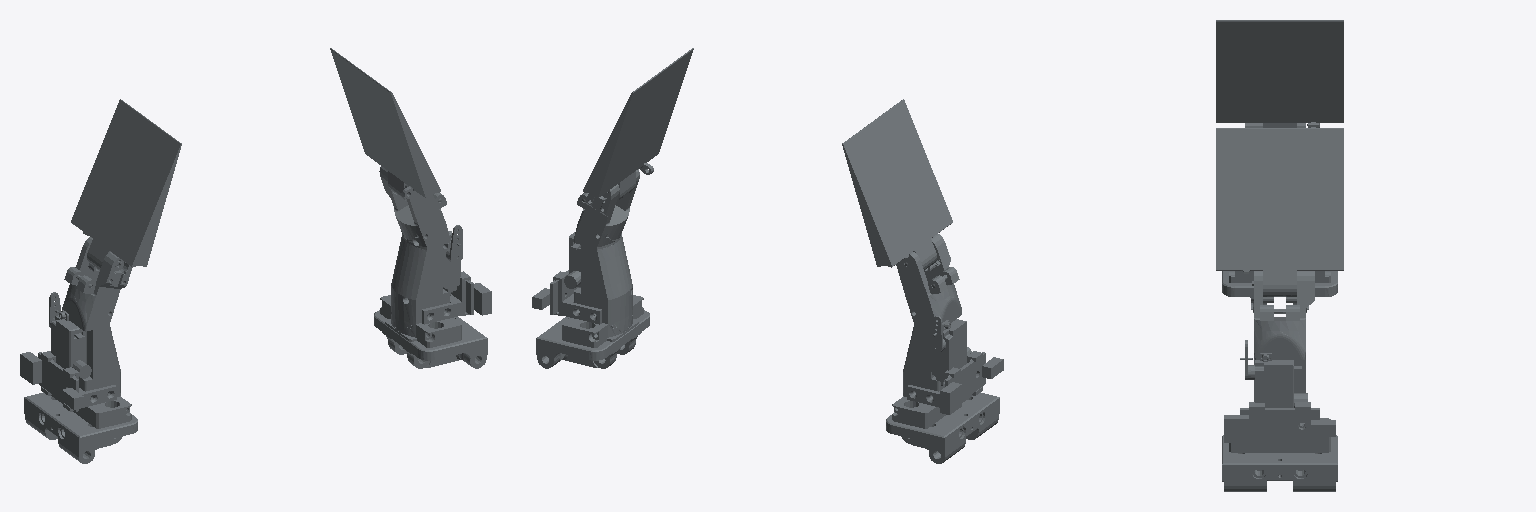
robot.urdf — lc_soft_enable_wide_grip:
<robot name="lc_soft_enable_wide_grip">
	<link name="base_link">
		<collision>
			<geometry>
				<mesh filename="package://lc_soft_enable_wide_grip/meshes/lc_soft_enable_wide_grip_Base_SWA_collision.stl" scale="1.0 1.0 1.0" />
			</geometry>
			<origin rpy="0 0 0" xyz="0 0 0" />
		</collision>
		<visual>
			<geometry>
				<mesh filename="package://lc_soft_enable_wide_grip/meshes/lc_soft_enable_wide_grip_Base_SWA.stl" scale="1.0 1.0 1.0" />
			</geometry>
			<origin rpy="0 0 0" xyz="0 0 0" />
			<material name="lc_soft_enable_wide_grip_Base_SWA.stl">
				<color rgba="0.4891 0.5125 0.5281 1.0" />
			</material>
		</visual>
		<inertial>
			<inertia ixx="0.0025119065" ixy="6.6303825e-07" ixz="3.2623689e-07" iyy="0.0022695104" iyz="3.6003285e-05" izz="0.0011107062" />
			<origin rpy="0 0 0" xyz="8.0969962e-06 0.0055754613 0.06269477" />
			<mass value="1.088118" />
		</inertial>
	</link>
	<link name="right_finger_link">
		<collision>
			<geometry>
				<mesh filename="asset/lc_soft_enable_wide_grip/meshes/right_base_60.stl" scale="0.001 0.001 0.001" />
			</geometry>
			<origin rpy="0 0 0" xyz="0 0 0" />
		</collision>
		<visual>
			<geometry>
				<mesh filename="asset/lc_soft_enable_wide_grip/meshes/right_base_60.stl" scale="0.001 0.001 0.001" />
			</geometry>
			<origin rpy="0 0 0" xyz="0 0 0" />
			<material name="lc_soft_enable_wide_grip_Right_Base_RIGHT_BASE.stl">
				<color rgba="0.4891 0.5125 0.5281 1.0" />
			</material>
		</visual>
		<inertial>
			<inertia ixx="1.1768394e-05" ixy="-6.2909428e-08" ixz="-3.6349539e-06" iyy="3.9431049e-05" iyz="-3.2865666e-07" izz="4.1707704e-05" />
			<origin rpy="0 0 0" xyz="0.020046839 -0.00032181022 -0.0055554777" />
			<mass value="0.071622239" />
		</inertial>
	</link>
	<link name="right_tip_link">
		<collision>
			<geometry>
				<mesh filename="asset/lc_soft_enable_wide_grip/meshes/right_distal_60.stl" scale="0.001 0.001 0.001" />
			</geometry>
			<origin rpy="0 0 0" xyz="0 0 0" />
		</collision>
		<visual>
			<geometry>
				<mesh filename="asset/lc_soft_enable_wide_grip/meshes/right_distal_60.stl" scale="0.001 0.001 0.001" />
			</geometry>
			<origin rpy="0 0 0" xyz="0 0 0" />
			<material name="lc_soft_enable_wide_grip_Right_Distal_RIGHT_DISTAL.stl">
				<color rgba="0.4891 0.5125 0.5281 1.0" />
			</material>
		</visual>
		<inertial>
			<inertia ixx="2.4290894e-06" ixy="2.7371321e-07" ixz="-4.0328611e-09" iyy="2.6146567e-06" iyz="9.9713504e-09" izz="6.7624098e-07" />
			<origin rpy="0 0 0" xyz="-0.0081993292 0.0060080724 0.00015047764" />
			<mass value="0.013727707" />
		</inertial>
	</link>
	<link name="left_finger_link">
		<collision>
			<geometry>
				<mesh filename="asset/lc_soft_enable_wide_grip/meshes/left_base_60.stl" scale="0.001 0.001 0.001" />
			</geometry>
			<origin rpy="0 0 0" xyz="0 0 0" />
		</collision>
		<visual>
			<geometry>
				<mesh filename="asset/lc_soft_enable_wide_grip/meshes/left_base_60.stl" scale="0.001 0.001 0.001" />
			</geometry>
			<origin rpy="0 0 0" xyz="0 0 0" />
			<material name="lc_soft_enable_wide_grip_Left_Base_left_base.stl">
				<color rgba="0.4891 0.5125 0.5281 1.0" />
			</material>
		</visual>
		<inertial>
			<inertia ixx="1.1684398e-05" ixy="-1.3930447e-07" ixz="-3.4062422e-06" iyy="3.8446897e-05" iyz="-3.5507094e-07" izz="4.0761693e-05" />
			<origin rpy="0 0 0" xyz="0.019776202 -0.00030196559 -0.0056210743" />
			<mass value="0.071214922" />
		</inertial>
	</link>
	<link name="left_tip_link">
		<collision>
			<geometry>
				<mesh filename="asset/lc_soft_enable_wide_grip/meshes/left_distal_60.stl" scale="0.001 0.001 0.001" />
			</geometry>
			<origin rpy="0 0 0" xyz="0 0 0" />
		</collision>
		<visual>
			<geometry>
				<mesh filename="asset/lc_soft_enable_wide_grip/meshes/left_distal_60.stl" scale="0.001 0.001 0.001" />
			</geometry>
			<origin rpy="0 0 0" xyz="0 0 0" />
			<material name="lc_soft_enable_wide_grip_Left_Distal_LEFT_DISTAL.stl">
				<color rgba="0.4891 0.5125 0.5281 1.0" />
			</material>
		</visual>
		<inertial>
			<inertia ixx="2.4290894e-06" ixy="2.7371321e-07" ixz="-4.0328611e-09" iyy="2.6146567e-06" iyz="9.9713504e-09" izz="6.7624098e-07" />
			<origin rpy="0 0 0" xyz="-0.0081993292 0.0060080724 0.00015047764" />
			<mass value="0.013727707" />
		</inertial>
	</link>
	<joint name="right_finger" type="prismatic">
		<parent link="base_link" />
		<child link="right_finger_link" />
		<axis xyz="0 0 1" />
		<limit effort="100000000000000000" lower="0" upper="0.0575" velocity="100000000000000000" />
		<origin rpy="-3.141592653589793 -1.5707963057214722 0" xyz="-0.07658 -4.689172593935216e-18 0.1335" />
	</joint>
	<joint name="right_tip" type="revolute">
		<parent link="right_finger_link" />
		<child link="right_tip_link" />
		<axis xyz="0 0 1" />
		<limit effort="100000000000000000" lower="0" upper="1.0471975511965976" velocity="100000000000000000" />
		<origin rpy="-1.5707963267948963 0.87266404218453 3.141592653589793" xyz="0.0695 0.0 0.005375" />
	</joint>
	<joint name="left_base" type="prismatic">
		<parent link="base_link" />
		<child link="left_finger_link" />
		<axis xyz="0 0 1" />
		<limit effort="100000000000000000" lower="0" upper="0.0575" velocity="100000000000000000" />
		<origin rpy="1.874699728327322e-33 -1.5707963057214722 0" xyz="0.07658 4.689172593935216e-18 0.1335" />
	</joint>
	<joint name="left_tip" type="revolute">
		<parent link="left_finger_link" />
		<child link="left_tip_link" />
		<axis xyz="0 0 1" />
		<limit effort="100000000000000000" lower="0" upper="1.0471975511965976" velocity="100000000000000000" />
		<origin rpy="-1.5707963267948968 0.8726640421845309 3.141592653589793" xyz="0.0695 0.0 0.005375" />
	</joint>
</robot>

--- Render facts (derived) ---
3 views of the same robot in one strip: view 1: azimuth 30°, elevation 25°; view 2: azimuth 150°, elevation 25°; view 3: azimuth 270°, elevation 25° (orthographic).
Robot: lc_soft_enable_wide_grip — 5 links, 4 joints (2 revolute, 2 prismatic); root link base_link; default pose: all joints at 0.
Visible links, largest first — view 1: right_finger_link, left_finger_link, right_tip_link, left_tip_link; view 2: right_finger_link, left_finger_link, right_tip_link, left_tip_link; view 3: left_tip_link, left_finger_link, right_tip_link, right_finger_link.
Boxes of the visible links, box(x1,y1,x2,y2) form: right_finger_link: box(20, 237, 137, 463); left_finger_link: box(374, 166, 491, 368); right_tip_link: box(71, 99, 181, 273); left_tip_link: box(330, 48, 440, 200); right_finger_link: box(886, 234, 1003, 463); left_finger_link: box(532, 169, 649, 368); right_tip_link: box(842, 99, 952, 273); left_tip_link: box(583, 48, 693, 200); left_tip_link: box(1216, 128, 1343, 302); left_finger_link: box(1222, 271, 1337, 491); right_tip_link: box(1216, 20, 1343, 127); right_finger_link: box(1222, 123, 1337, 312).
Bounding box of the posed robot: 0.1974 × 0.05 × 0.1361 m (x, y, z).
4 mesh visuals loaded from 5 distinct referenced files (4 binary STL); not drawn: 1 (reference not matched to a file when rendering).